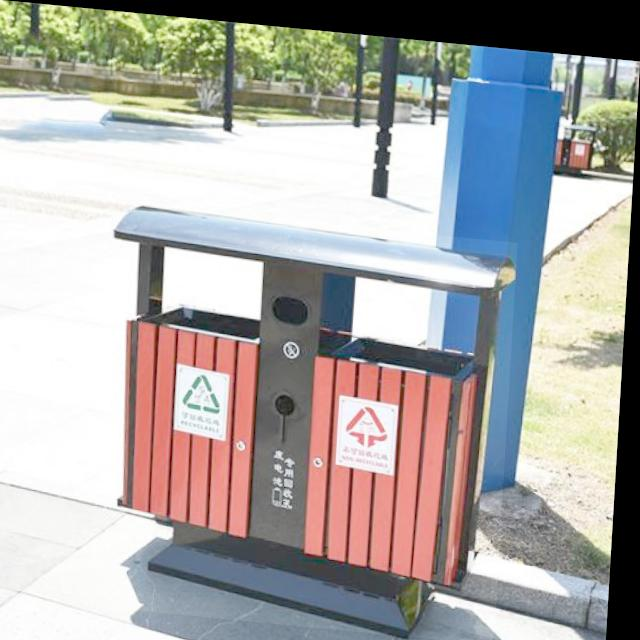garbage_bin: (96, 201, 520, 634), (554, 110, 596, 164)
